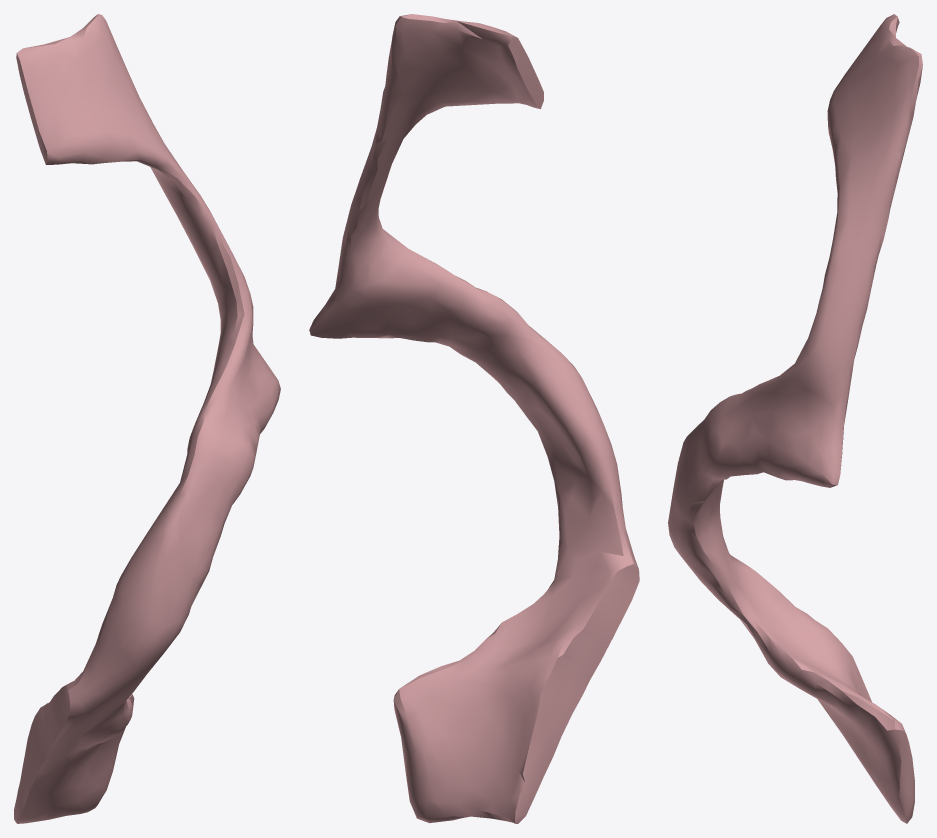
File: fma49285_mm559.glb
3 views of the same model, side by side, from view 1: azimuth 30°, elevation 25°; view 2: azimuth 150°, elevation 25°; view 3: azimuth 270°, elevation 25° (orthographic). The views are drawn at different scales.
Parts seen in each view (by area): view 1: FMA49285_MM559; view 2: FMA49285_MM559; view 3: FMA49285_MM559.
Part boxes in pixels (bbox=[...]): FMA49285_MM559: bbox=[14, 14, 280, 823]; FMA49285_MM559: bbox=[309, 14, 639, 823]; FMA49285_MM559: bbox=[668, 14, 922, 823].
Bounding box in the file's own units: 0.031 × 0.0882 × 0.0262.
